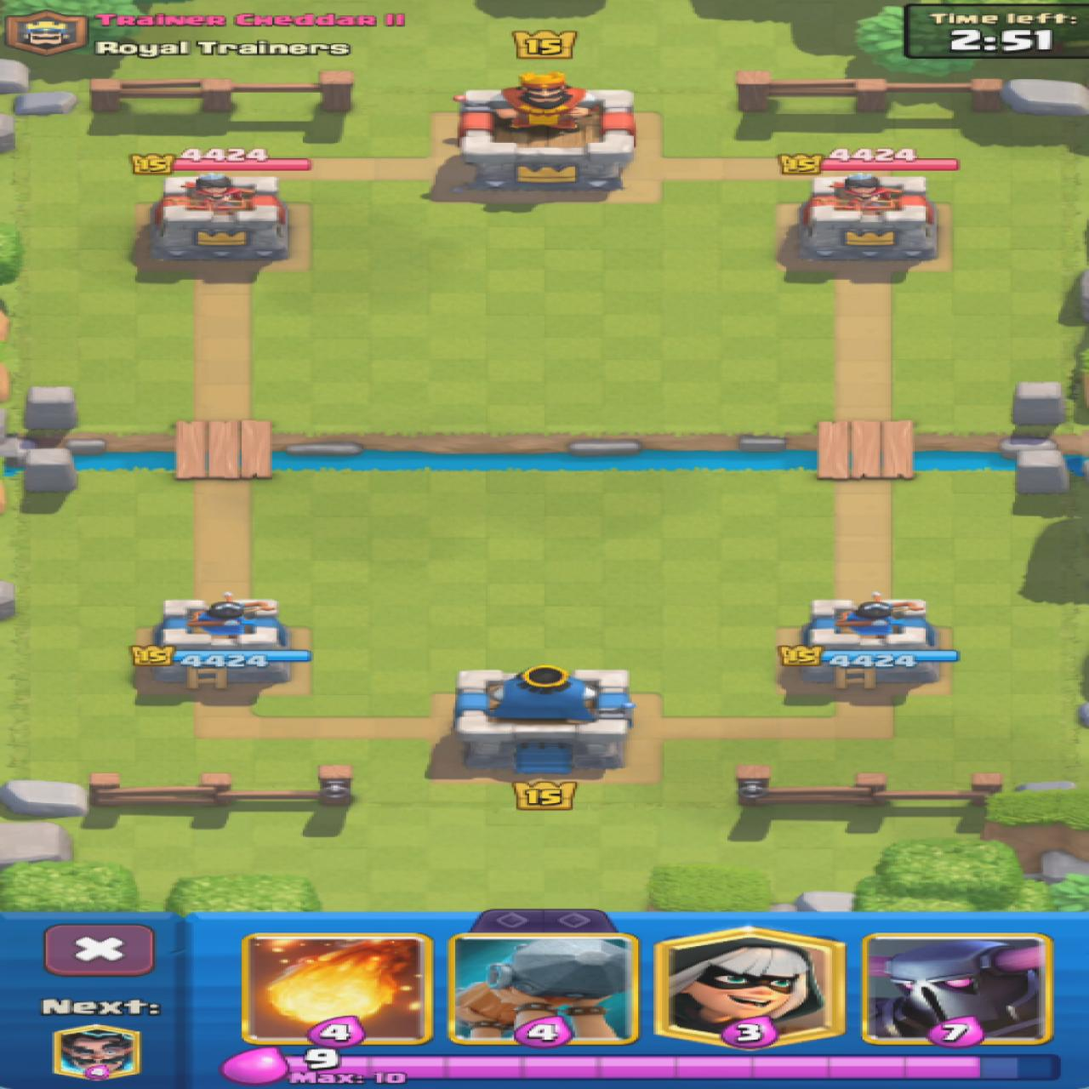Enemy-KingTower: (457, 73, 634, 194)
Enemy-PrincessTower: (797, 175, 934, 263), (150, 173, 287, 261)
